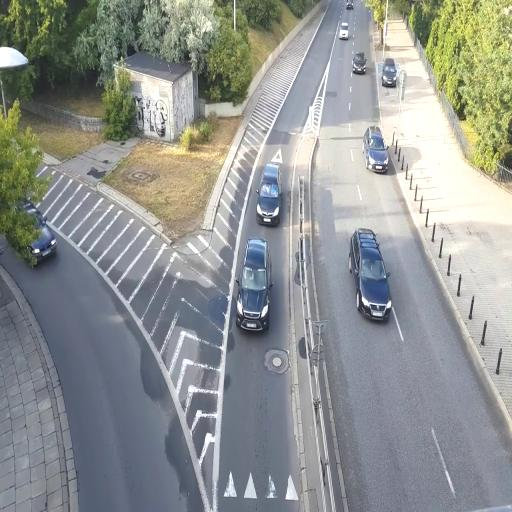vehicle: (352, 230, 392, 322), (256, 164, 280, 226), (365, 126, 389, 173), (382, 57, 398, 87), (352, 51, 366, 74), (338, 23, 350, 39)
